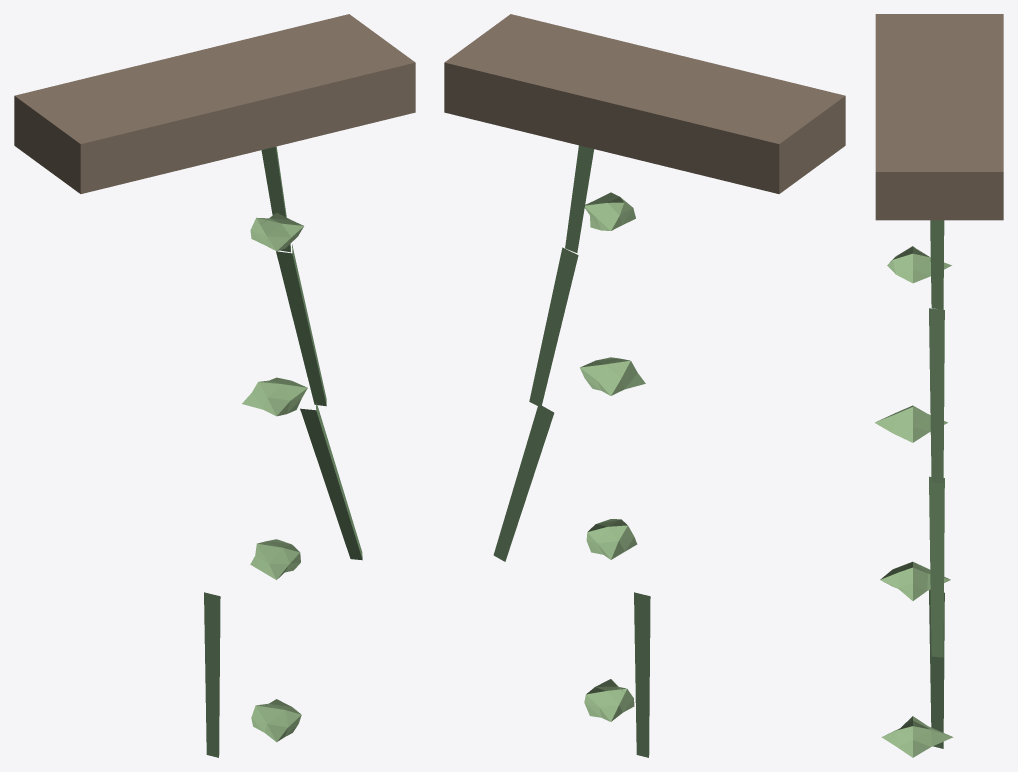
Rendered from vine_v22.glb.
The picture shows the model from 3 angles, left to right: view 1: azimuth 30°, elevation 25°; view 2: azimuth 150°, elevation 25°; view 3: azimuth 270°, elevation 25°; orthographic projection. The views are drawn at different scales.
Parts seen in each view (by area): view 1: lod0; view 2: lod0; view 3: lod0.
Boxes of the visible parts, left/top/right/bottom form: lod0: left=14, top=14, right=415, bottom=757; lod0: left=444, top=14, right=845, bottom=757; lod0: left=875, top=14, right=1003, bottom=757.
Size of what is drawn, in the model's own units: 0.7 by 1.35 by 0.2421.
